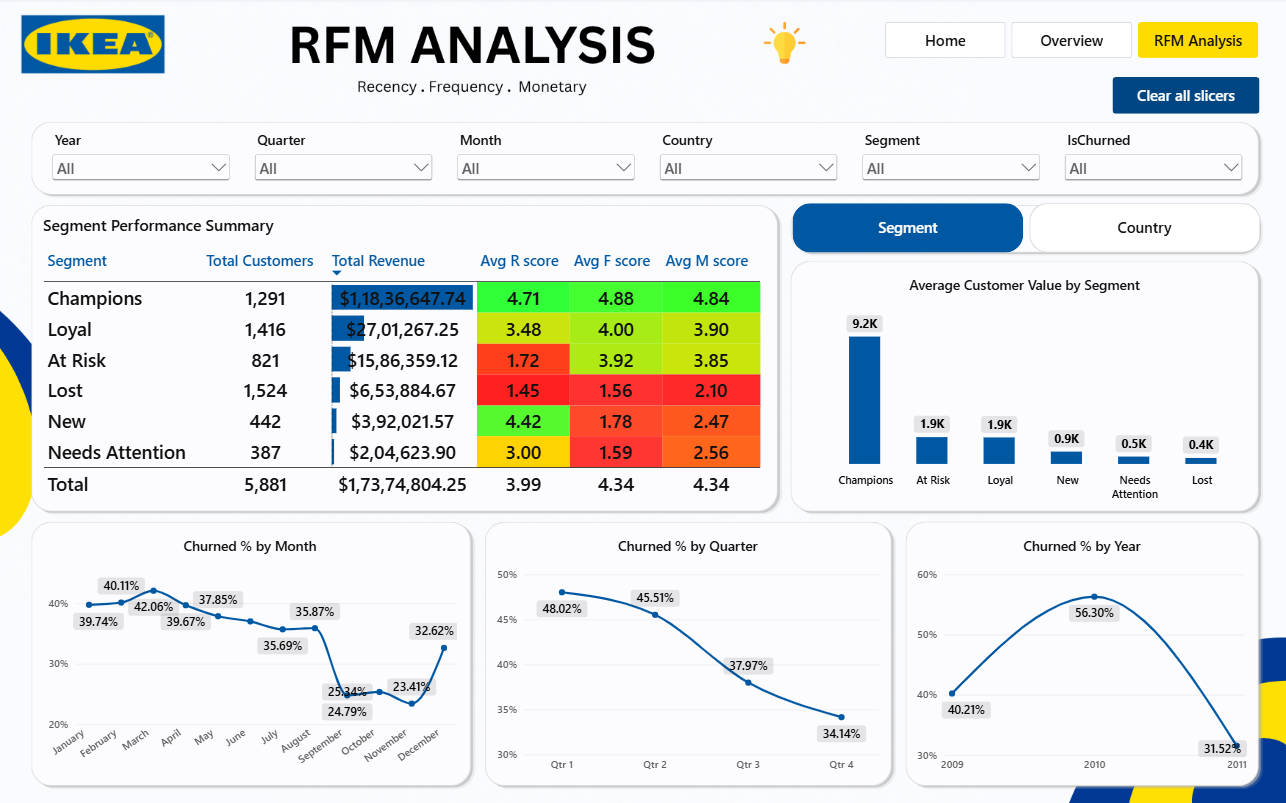

The dashboard page shown, as its layout file describes it:
{"tool":"powerbi","page":{"name":"RFM Analysis","canvas":[1750,1100],"ordinal":2},"visuals":[{"type":"slicer","fields":{"Values":["Sheet1.InvoiceDate.Variation.Date Hierarchy.Year"]},"box":[66.1,182.1,251.8,69.6],"z":0},{"type":"lineChart","fields":{"Category":["Sheet1.InvoiceDate.Variation.Date Hierarchy.Month"],"Y":["Sheet1.Churned %"]},"box":[43.4,719.3,595.2,354.7],"z":0,"group":"g1"},{"type":"slicer","fields":{"Values":["Sheet1.InvoiceDate.Variation.Date Hierarchy.Quarter"]},"box":[341.8,182.1,251.8,69.6],"z":1000},{"type":"columnChart","fields":{"Category":["Sheet1.Segment"],"Y":["Sheet1.Average Customer Value"]},"box":[1078,362.6,634.6,340.9],"z":1000,"group":"g1"},{"type":"slicer","fields":{"Values":["Sheet1.InvoiceDate.Variation.Date Hierarchy.Month"]},"box":[617.5,182.1,251.8,69.6],"z":2000},{"type":"lineChart","fields":{"Category":["Sheet1.InvoiceDate.Variation.Date Hierarchy.Quarter"],"Y":["Sheet1.Churned %"]},"box":[660.2,719.3,551.8,354.7],"z":2000,"group":"g1"},{"type":"slicer","fields":{"Values":["Sheet1.Country"]},"box":[893.2,182.1,251.8,69.6],"z":3000},{"type":"lineChart","fields":{"Category":["Sheet1.InvoiceDate.Variation.Date Hierarchy.Year"],"Y":["Sheet1.Churned %"]},"box":[1231.3,719.3,481.3,355.4],"z":3000,"group":"g1"},{"type":"slicer","fields":{"Values":["Sheet1.Segment"]},"box":[1168.9,182.1,251.8,69.6],"z":4000},{"type":"tableEx","title":"Segment Performance Summary","fields":{"Values":["Sheet1.Segment","Sheet1.Total Customers","Sheet1.Total Revenue","Avg(Sheet1.R score)","Avg(Sheet1.F score)","Avg(Sheet1.M score)"]},"box":[43.4,279.8,1011,423.7],"z":4000,"group":"g1"},{"type":"slicer","fields":{"Values":["Sheet1.IsChurned"]},"box":[1444.6,182.1,251.8,69.6],"z":5000},{"type":"actionButton","box":[1513.6,108.8,200,50],"z":6000},{"type":"bookmarkNavigator","box":[1078,279.8,636.5,67],"z":7000},{"type":"group","id":"g1","title":"Group 1","box":[43.4,279.8,1669.2,795],"z":8000},{"type":"image","box":[1038.6,33.5,57.2,57.2],"z":10000},{"type":"pageNavigator","box":[1204.1,34,510.2,49.3],"z":15000}]}

Visuals, with their boxes in screenshot pixels (x1, y1, x2, y2), scaled from the page's 1750x1100 canvas onto the 1286x803 screenshot:
slicer - Sheet1.InvoiceDate.Variation.Date Hierarchy.Year: left=49, top=133, right=234, bottom=184
lineChart - Sheet1.InvoiceDate.Variation.Date Hierarchy.Month x Sheet1.Churned %: left=32, top=525, right=469, bottom=784
slicer - Sheet1.InvoiceDate.Variation.Date Hierarchy.Quarter: left=251, top=133, right=436, bottom=184
columnChart - Sheet1.Segment x Sheet1.Average Customer Value: left=792, top=265, right=1259, bottom=514
slicer - Sheet1.InvoiceDate.Variation.Date Hierarchy.Month: left=454, top=133, right=639, bottom=184
lineChart - Sheet1.InvoiceDate.Variation.Date Hierarchy.Quarter x Sheet1.Churned %: left=485, top=525, right=891, bottom=784
slicer - Sheet1.Country: left=656, top=133, right=841, bottom=184
lineChart - Sheet1.InvoiceDate.Variation.Date Hierarchy.Year x Sheet1.Churned %: left=905, top=525, right=1259, bottom=785
slicer - Sheet1.Segment: left=859, top=133, right=1044, bottom=184
"Segment Performance Summary" tableEx: left=32, top=204, right=775, bottom=514
slicer - Sheet1.IsChurned: left=1062, top=133, right=1247, bottom=184
actionButton: left=1112, top=79, right=1259, bottom=116
bookmarkNavigator: left=792, top=204, right=1260, bottom=253
"Group 1" group: left=32, top=204, right=1259, bottom=785
image: left=763, top=24, right=805, bottom=66
pageNavigator: left=885, top=25, right=1260, bottom=61
